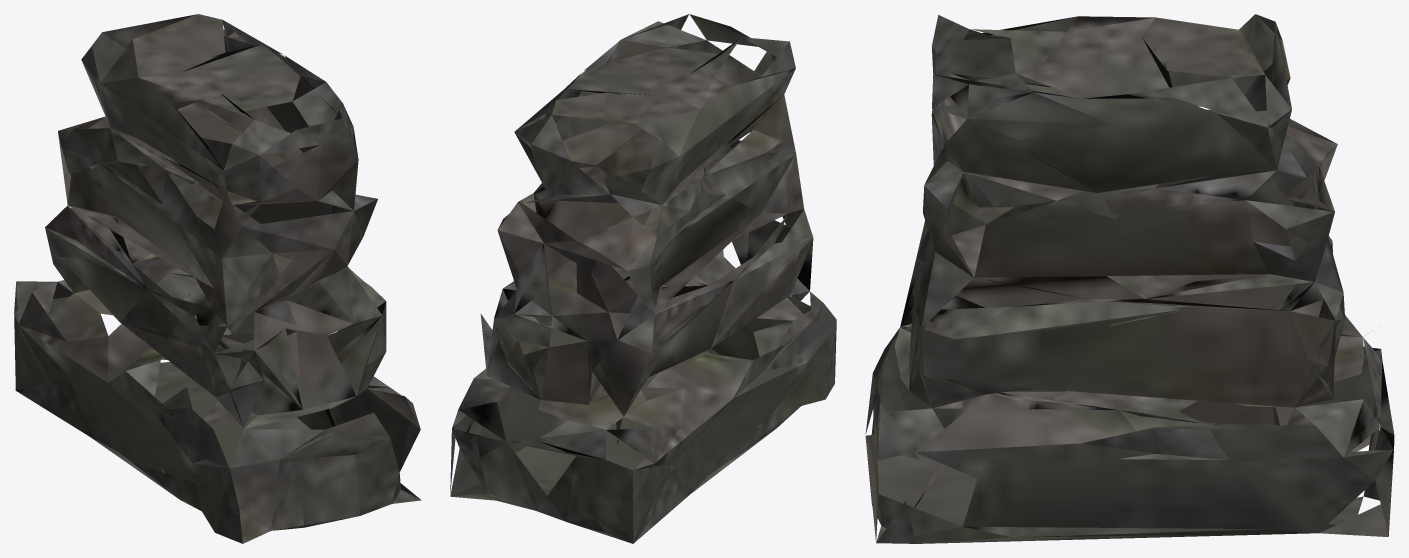
Rendered from crates_1007242721_lod1.glb.
The picture shows the model from 3 angles, left to right: view 1: azimuth 30°, elevation 25°; view 2: azimuth 150°, elevation 25°; view 3: azimuth 270°, elevation 25°; orthographic projection. The views are drawn at different scales.
Size of the model in its own units: 1.05 by 1.88 by 1.97.
1 material, 1 textured.
